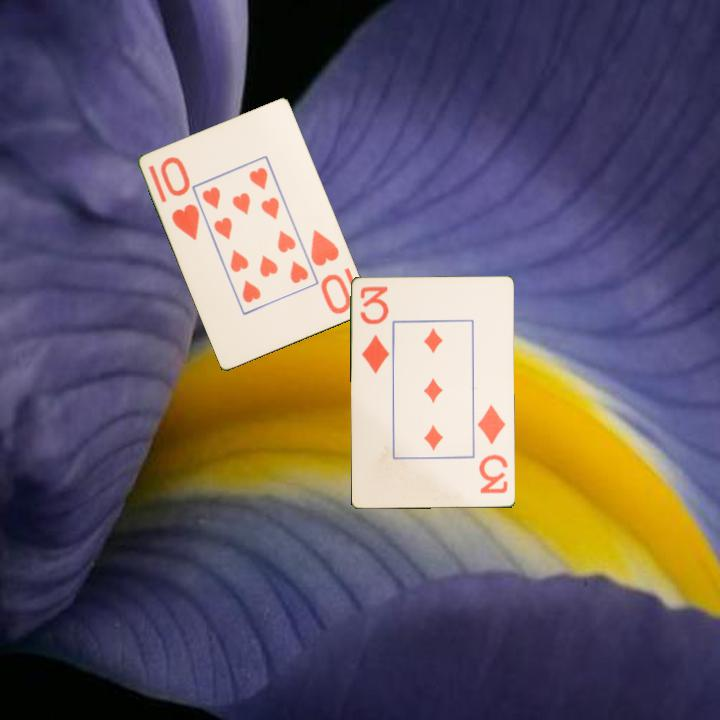10h: (307, 226, 354, 317), (157, 153, 203, 244)
3d: (474, 401, 511, 497), (357, 283, 392, 377)
